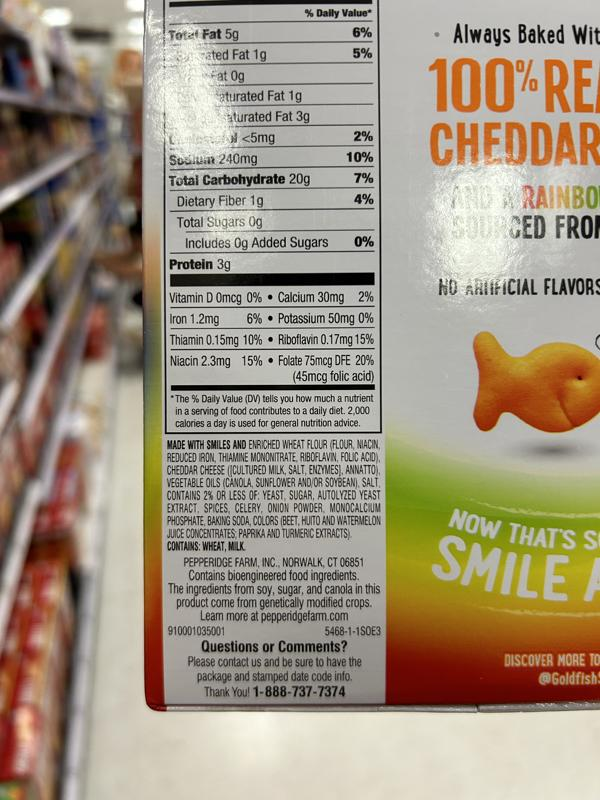ingredients: (164, 437, 383, 540)
